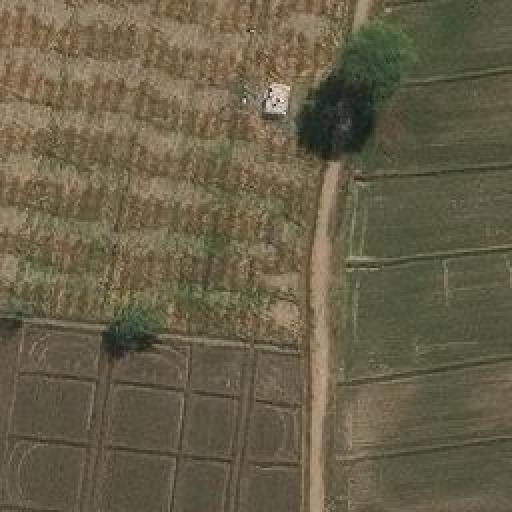manzanas: (263, 76, 292, 119)
